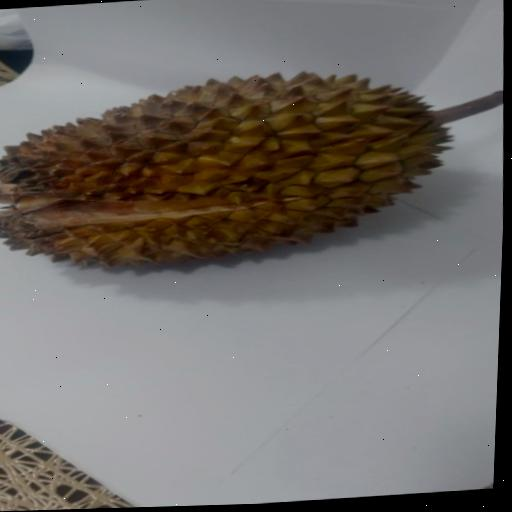rot: (0, 48, 510, 292)
